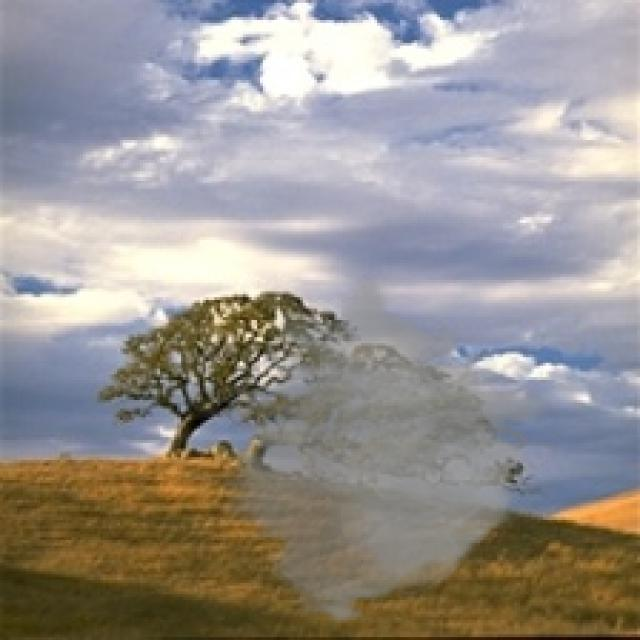smoke: (191, 274, 563, 626)
